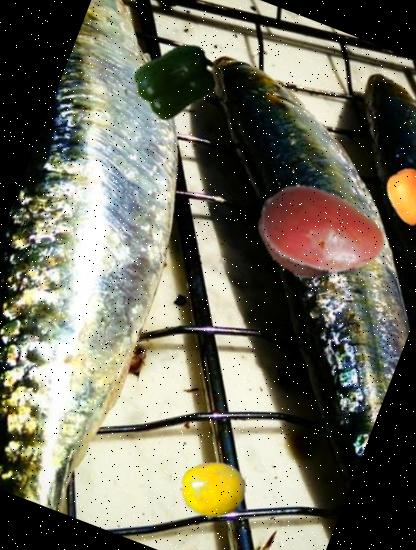Cocos: (240, 171, 367, 298)
Kumquats: (372, 160, 416, 234)
Maracuja: (170, 448, 255, 532)
Pepper: (124, 31, 226, 133)
Potato: (238, 148, 405, 315)
